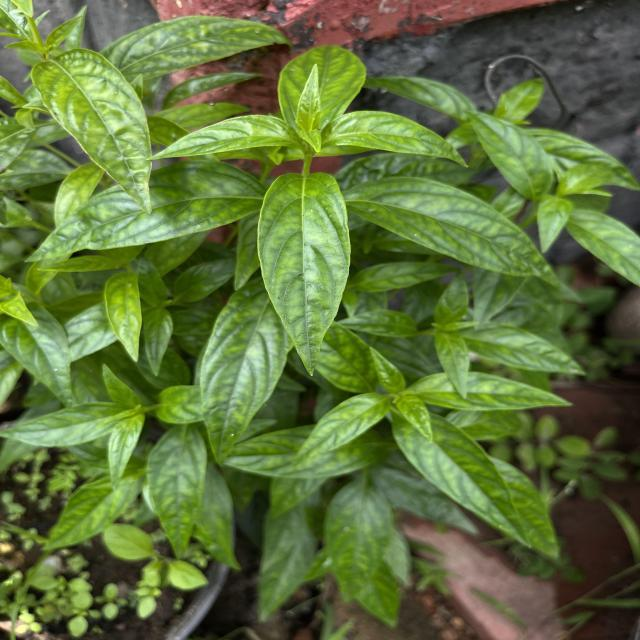Andrographis paniculata: (23, 159, 260, 264), (344, 174, 558, 280), (29, 46, 156, 218), (254, 168, 353, 378), (391, 410, 533, 550), (197, 279, 290, 468), (100, 12, 288, 82), (321, 474, 393, 602), (323, 109, 472, 170), (143, 426, 210, 560), (289, 391, 393, 471), (466, 104, 552, 200), (0, 299, 75, 409), (276, 42, 366, 129), (461, 320, 589, 378), (146, 112, 294, 160), (409, 371, 576, 412), (565, 211, 640, 291), (0, 401, 127, 448), (363, 72, 474, 120), (102, 267, 144, 364), (352, 259, 460, 292), (336, 308, 420, 338), (295, 62, 327, 134)
